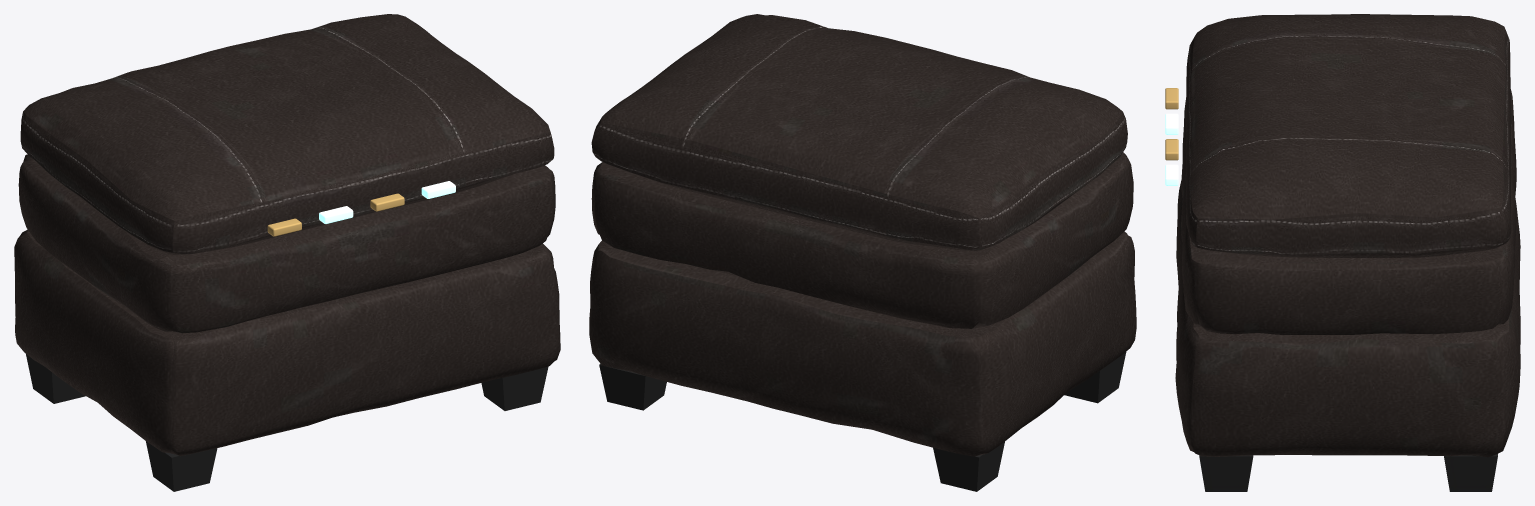
The model's file is hp_l2_cc0_ottoman_polyhaven_v1.glb.
3 renders of one model, left to right at view 1: azimuth 30°, elevation 25°; view 2: azimuth 150°, elevation 25°; view 3: azimuth 270°, elevation 25°, orthographic.
Parts seen in each view (by area): view 1: cc0_source_Ottoman_01; view 2: cc0_source_Ottoman_01; view 3: cc0_source_Ottoman_01.
Boxes of the visible parts, <box> form: cc0_source_Ottoman_01: <box>14,14,560,491</box>; cc0_source_Ottoman_01: <box>589,14,1136,491</box>; cc0_source_Ottoman_01: <box>1175,14,1520,491</box>.
Bounding box in the file's own units: 0.6517 × 0.46 × 0.4712.
Materials: 3 (1 with a texture image).
